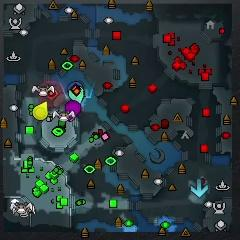p1: (67, 81, 84, 90)
p2: (68, 86, 85, 104)
p3: (65, 100, 81, 122)
p4: (32, 101, 49, 121)
x3: (190, 178, 209, 197)
